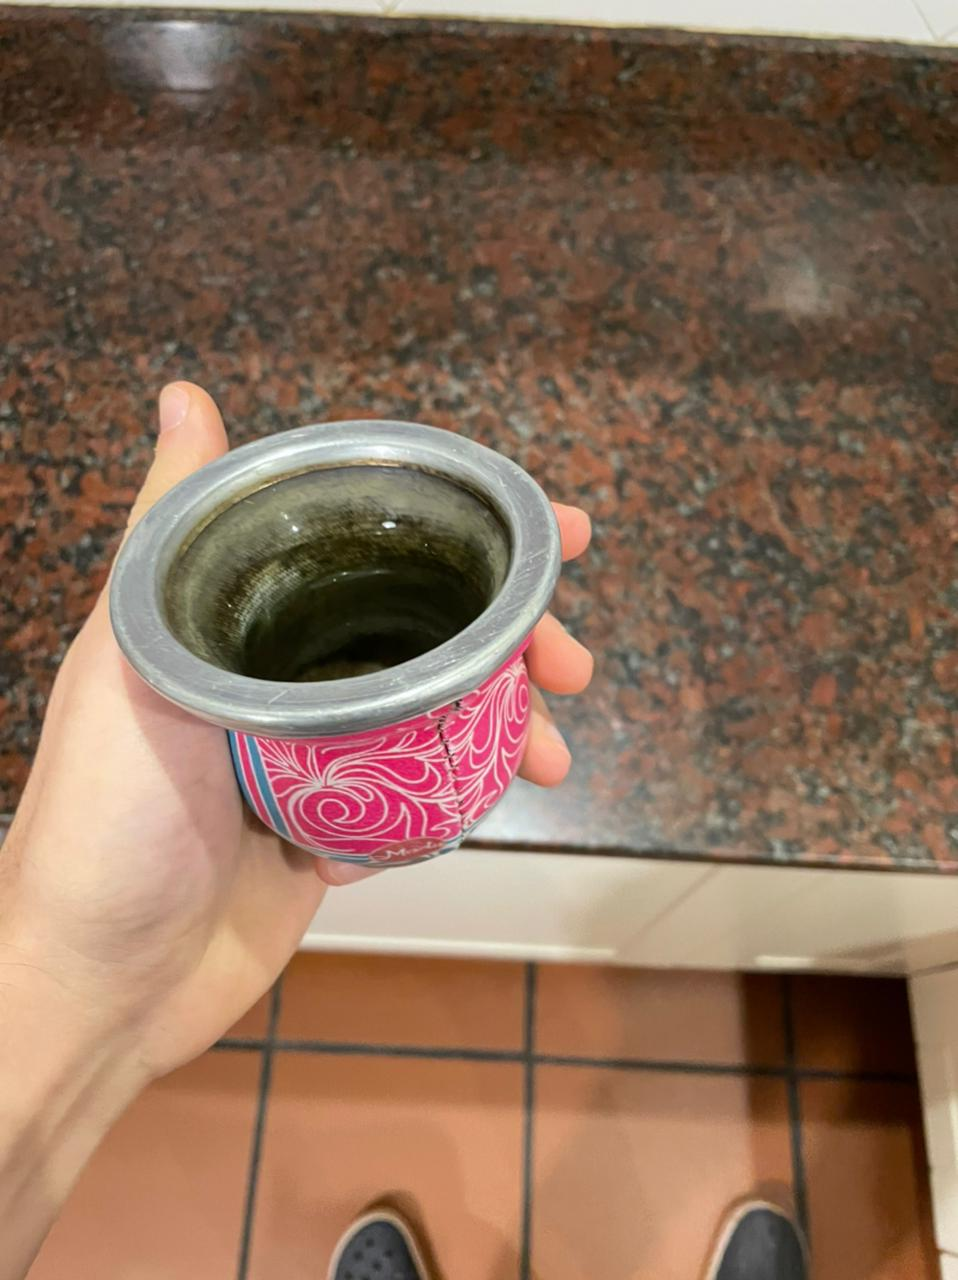mate: (86, 410, 586, 875)
plastico: (84, 408, 584, 873)
